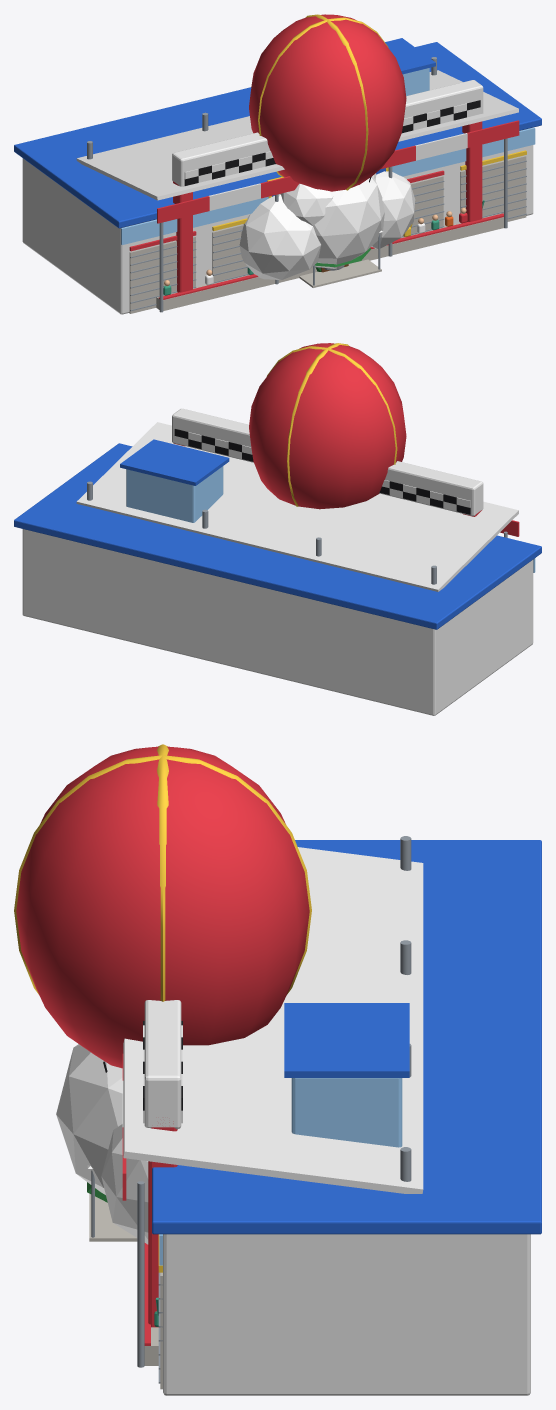
The model's file is scenery.glb.
The picture shows the model from 3 angles, top to bottom: view 1: azimuth 30°, elevation 25°; view 2: azimuth 150°, elevation 25°; view 3: azimuth 270°, elevation 25°; orthographic projection. The views are drawn at different scales.
Parts seen in each view (by area): view 1: pit_building, balloon, grandstand, cloud, gantry, tent; view 2: pit_building, grandstand, balloon, gantry; view 3: pit_building, balloon, grandstand, cloud, gantry, tent.
Boxes of the visible parts, x1,y1,x2,y2 form: pit_building: [14, 38, 541, 314]; balloon: [249, 14, 406, 272]; grandstand: [76, 57, 519, 312]; cloud: [239, 171, 415, 279]; gantry: [172, 80, 486, 305]; tent: [299, 230, 382, 287]; pit_building: [14, 439, 541, 715]; grandstand: [76, 422, 519, 591]; balloon: [249, 343, 406, 509]; gantry: [172, 408, 483, 516]; pit_building: [152, 840, 541, 1395]; balloon: [14, 744, 311, 1072]; grandstand: [122, 836, 423, 1367]; cloud: [56, 1044, 148, 1244]; gantry: [143, 1000, 182, 1327]; tent: [87, 1165, 137, 1241].
Bounding box in the file's own units: 24.6 × 14.04 × 14.35.
